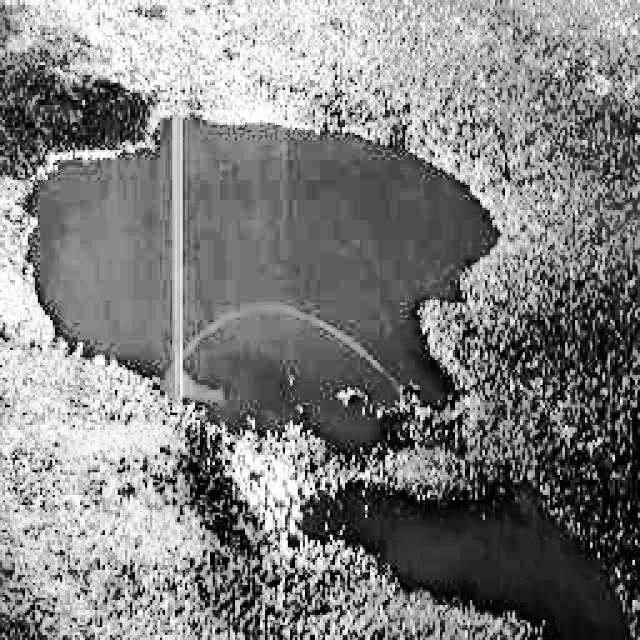Pothole: (19, 77, 640, 640)
